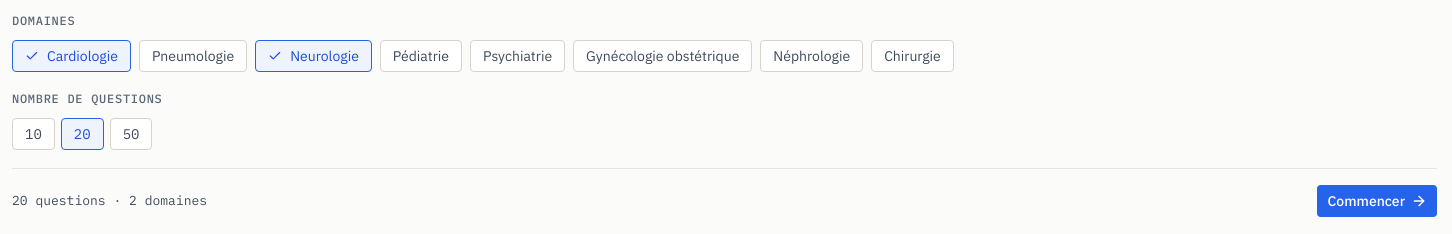
Test: SeriesComposerDemo › un clic ajoute ou retire un domaine, la taille se choisit
Click the button "Neurologie": x=314, y=56 [255,40,372,72]
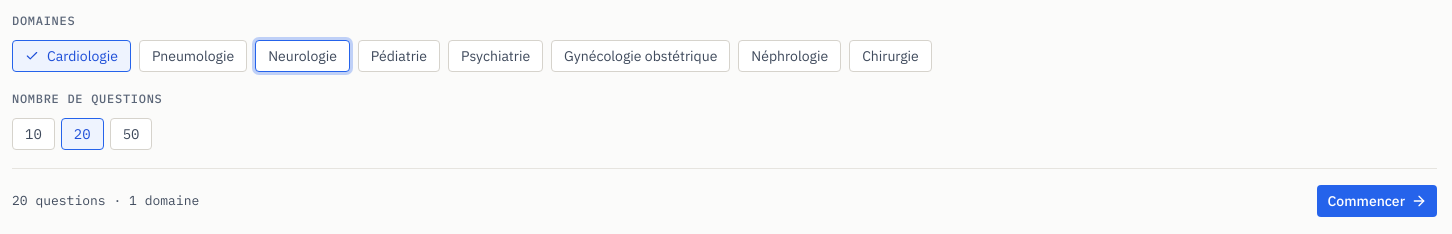
Click the button "50": x=131, y=134 [110,118,152,150]
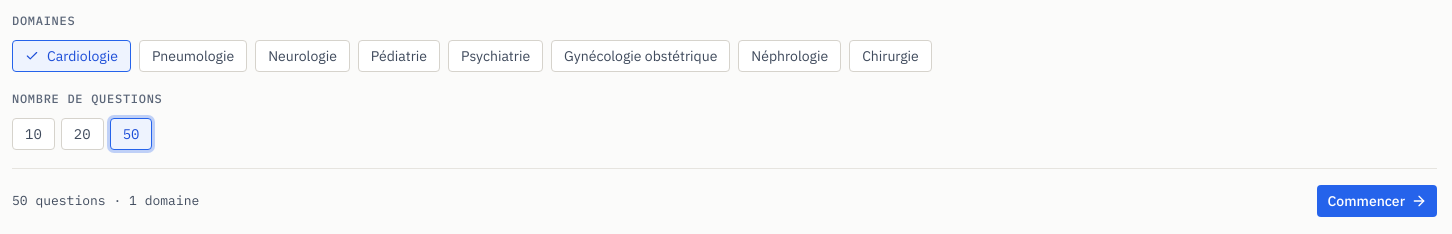
expect the text "50 questions · 1 domaine" is shown: met, box [12,191,199,211]
Click the button "Pédiatrie": x=399, y=56 [358,40,440,72]
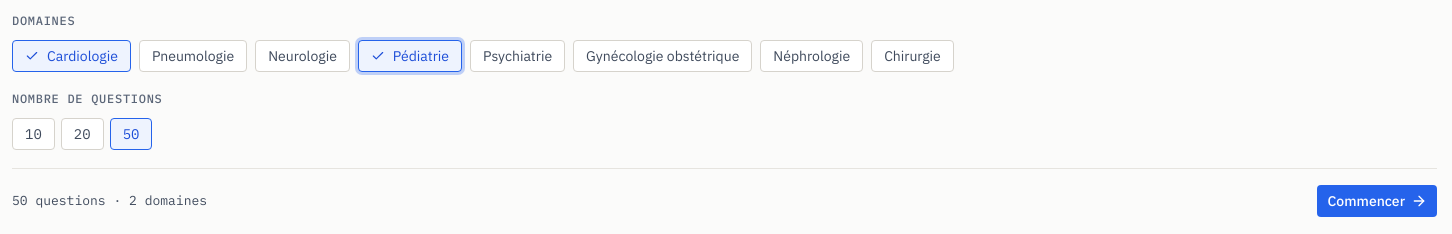
expect the text "50 questions · 2 domaines" is shown: met, box [12,191,207,211]
